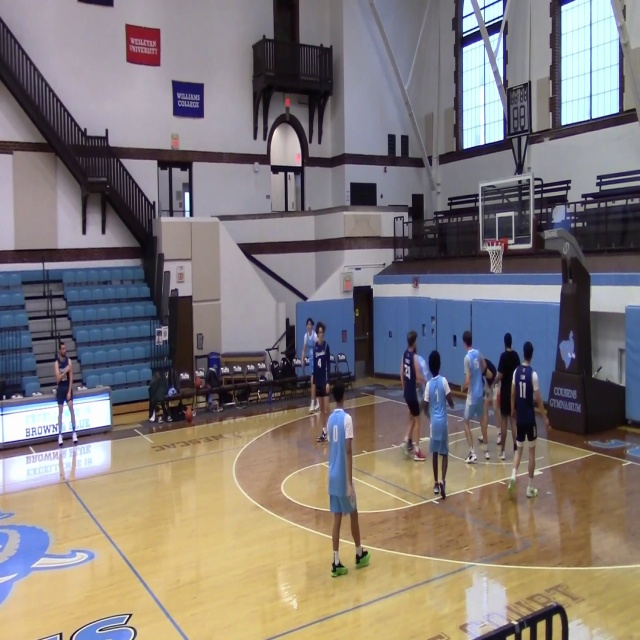Basketball: (332, 383, 345, 401), (184, 409, 193, 422), (325, 383, 331, 393)
